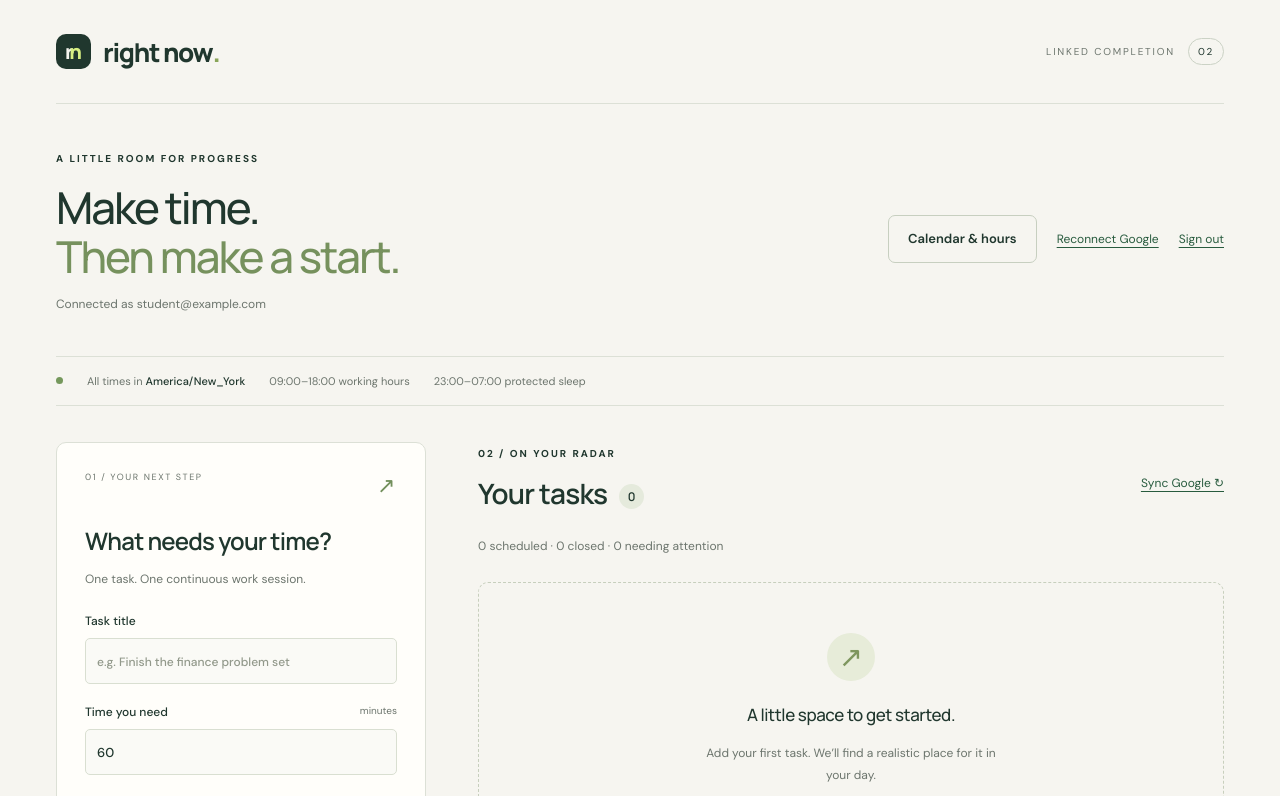
Test: Signed-in structured task form › allows correcting input after definitive validation rejection
Type "Finance" into the field labelled "Task title" at point(241, 661), box [85, 638, 397, 684]
(page scrolled)
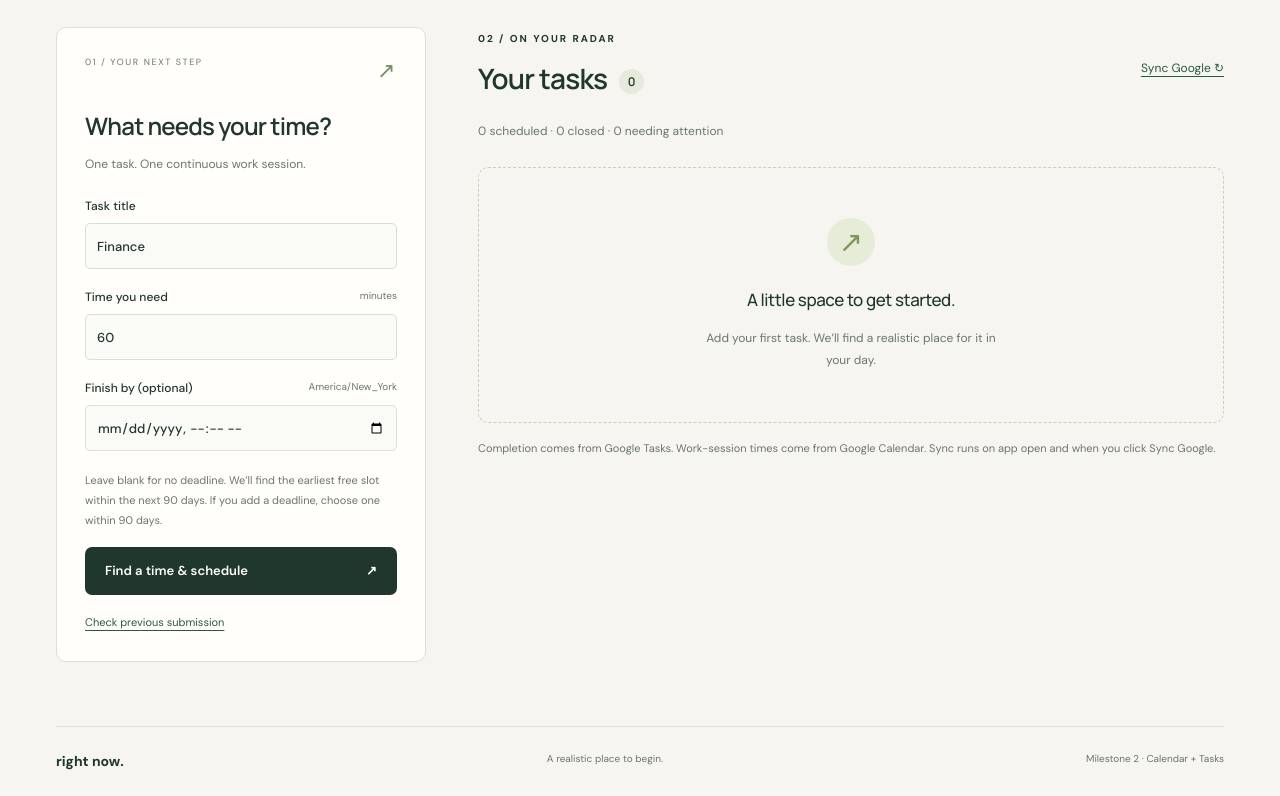
Type "2026-10-21T18:00" into the field labelled "Finish by (optional) America/New_York" at point(241, 428), box [85, 405, 397, 451]
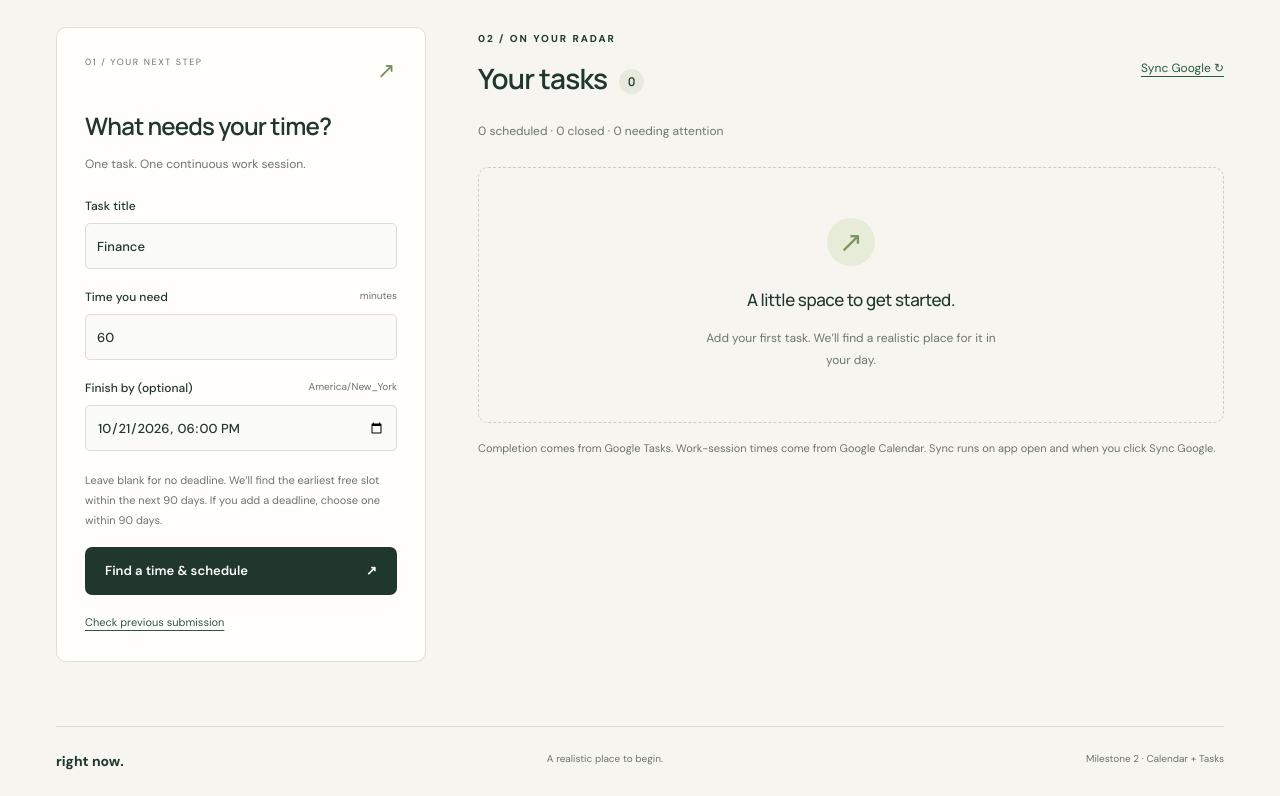
Submit the form named "Find a time", box [85, 198, 397, 595]
(page scrolled)
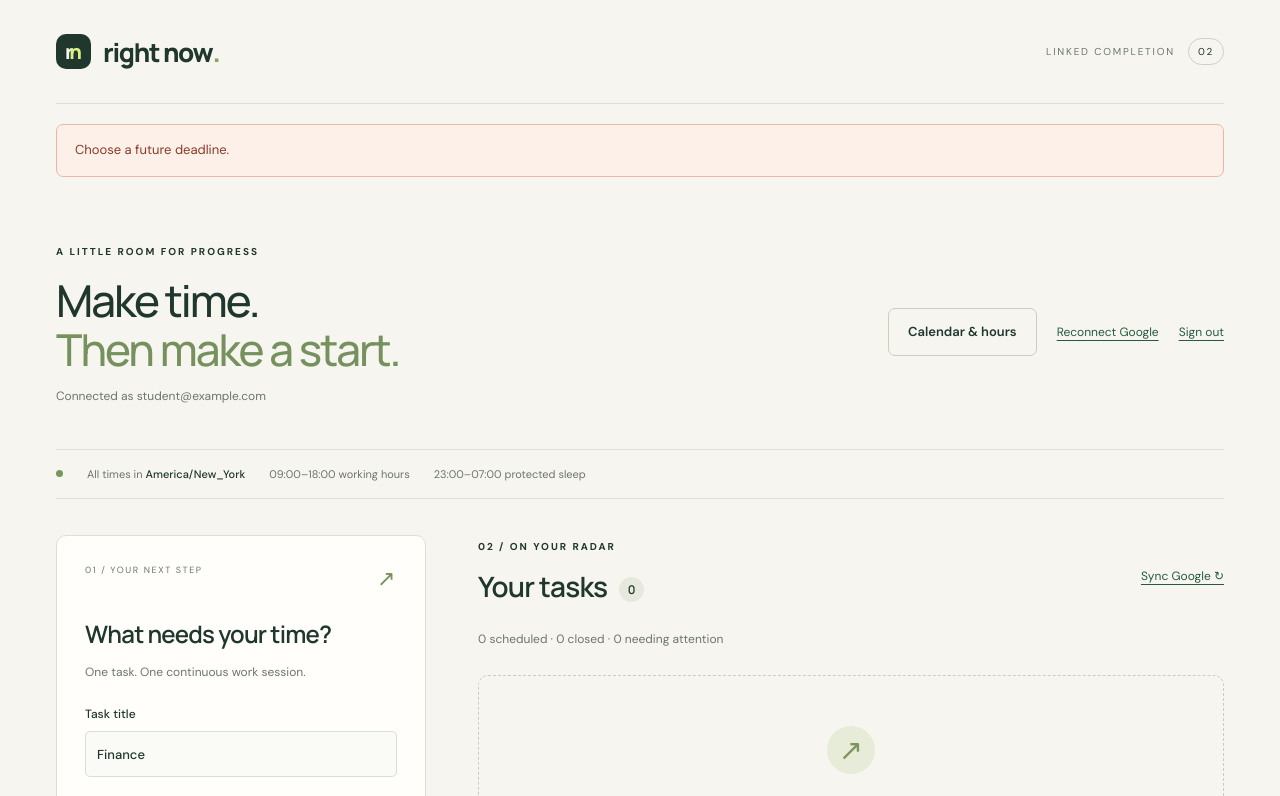
Expected: the message "Choose a future deadline." is shown, [56, 124, 1224, 177]
Expected: the message shows "future deadline", [75, 141, 229, 158]
